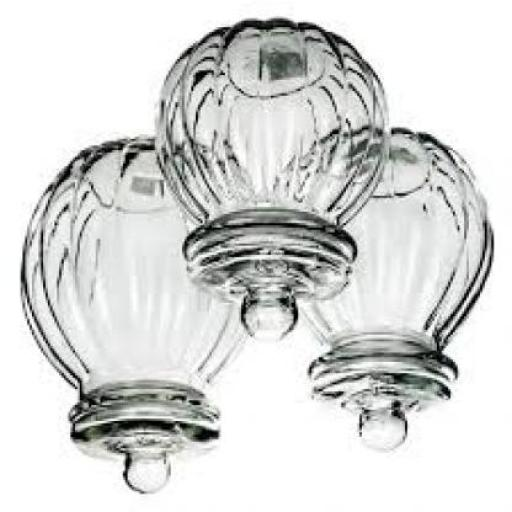glass: (21, 137, 250, 496), (152, 24, 392, 344), (289, 130, 494, 452)
